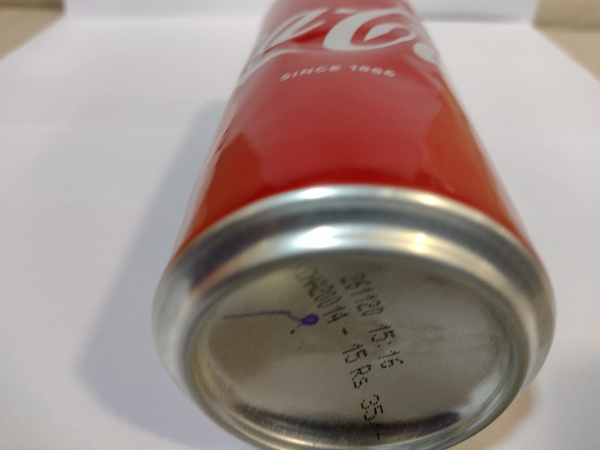can: (147, 4, 563, 444)
